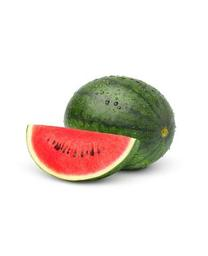watermelon: (63, 74, 175, 171), (23, 124, 139, 184)
